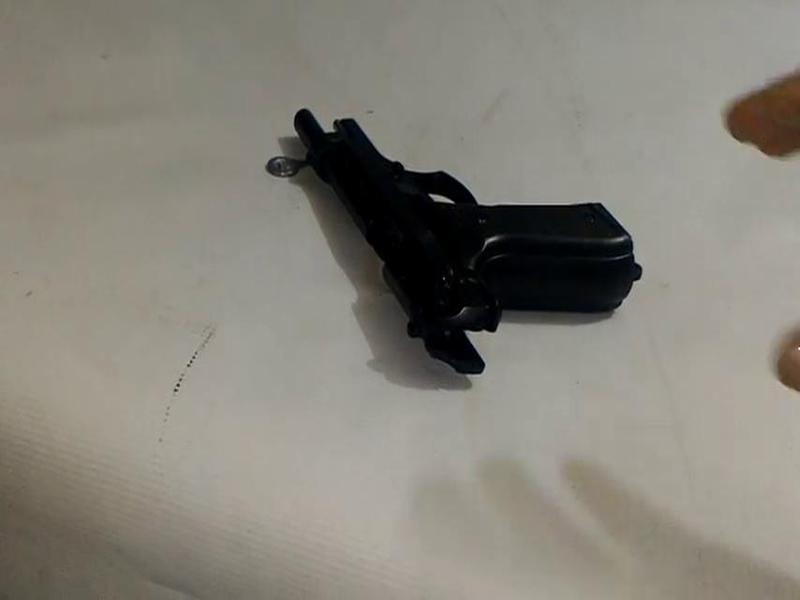Pistola: (262, 83, 691, 402)
